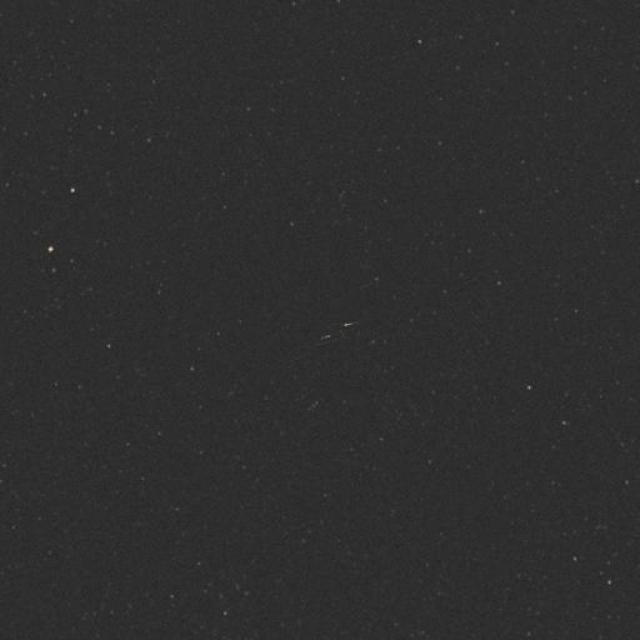proba_3_ocs: (306, 305, 455, 485)
